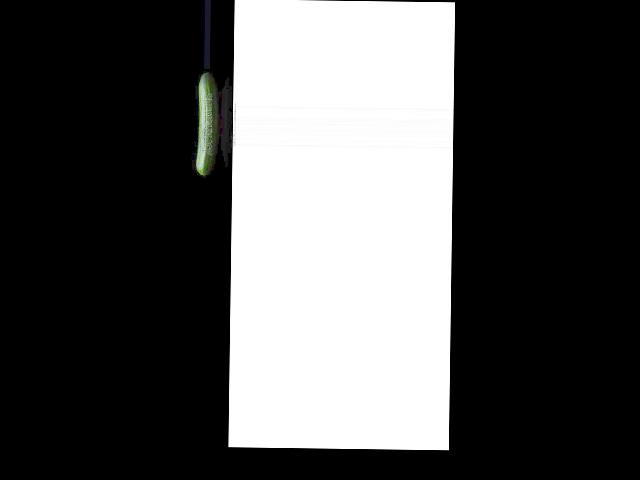cucumber: (196, 73, 213, 176)
